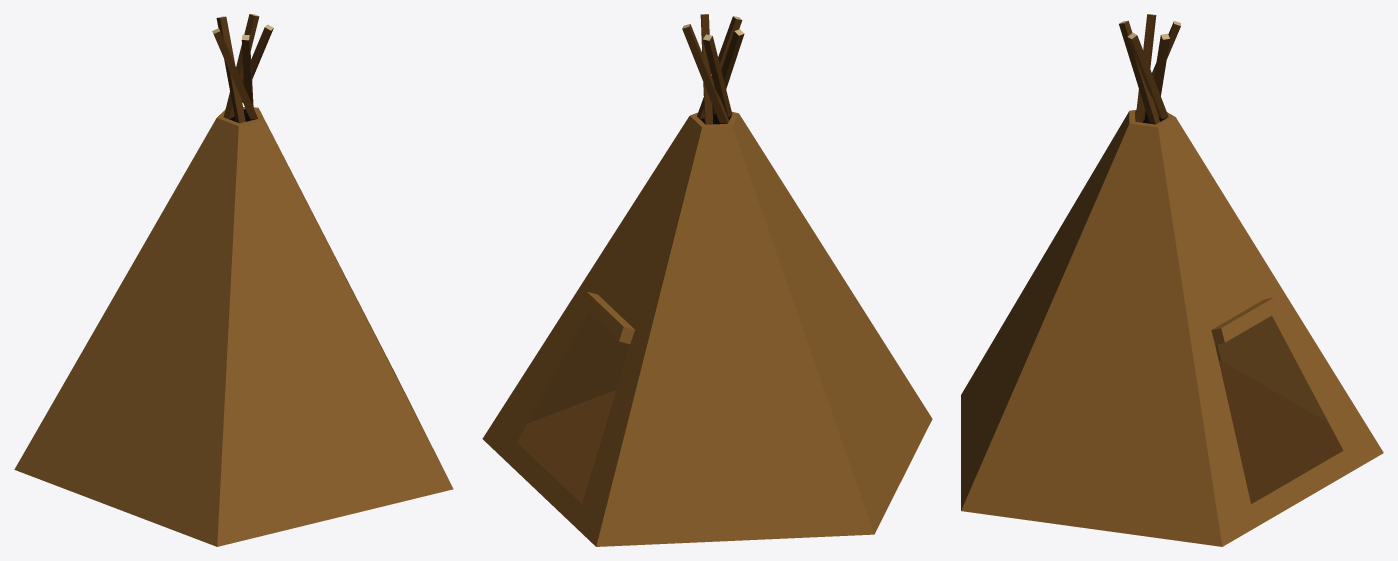
File: WinterTent.fbx
3 renders of one model, left to right at view 1: azimuth 30°, elevation 25°; view 2: azimuth 150°, elevation 25°; view 3: azimuth 270°, elevation 25°, orthographic. The views are drawn at different scales.
Visible parts, largest first — view 1: WinterTent; view 2: WinterTent; view 3: WinterTent.
Part boxes in pixels (bbox=[...]): WinterTent: bbox=[14, 14, 453, 546]; WinterTent: bbox=[482, 14, 932, 546]; WinterTent: bbox=[961, 14, 1383, 546].
Bounding box in the file's own units: 0.5226 × 0.5545 × 0.497.
